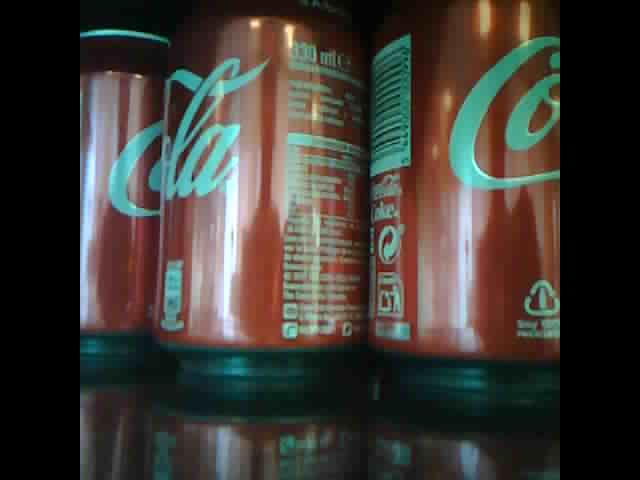coca cola: (155, 3, 366, 374), (368, 1, 559, 375), (78, 23, 170, 358)
